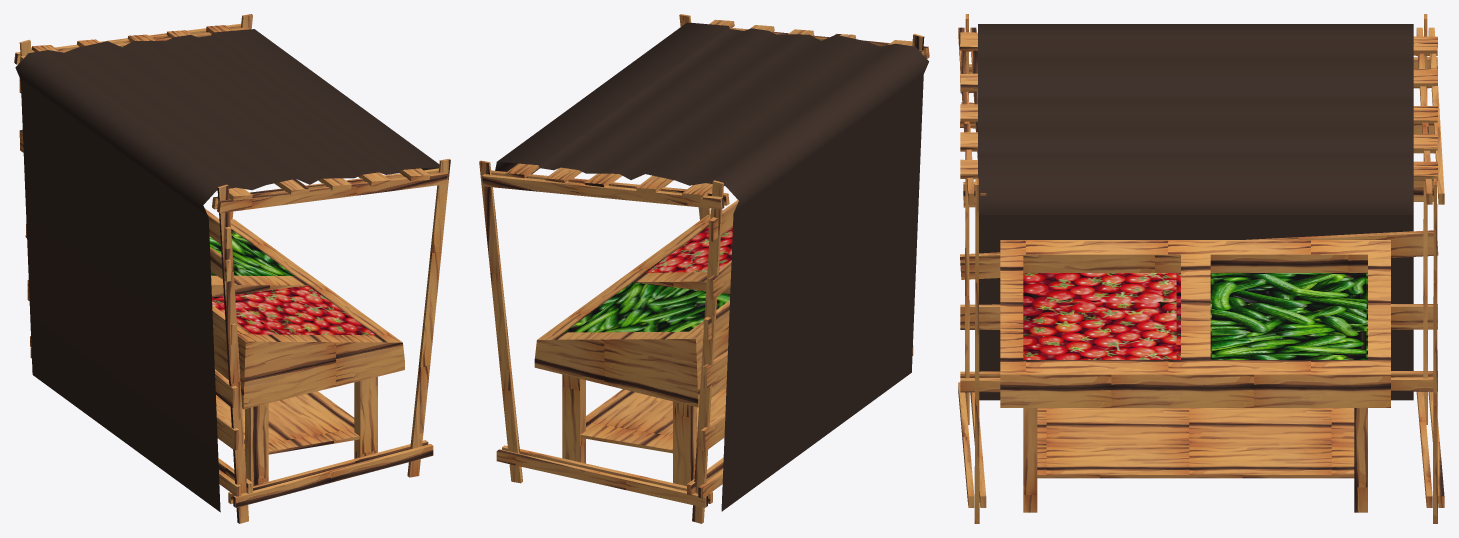
Rendered from Stall.fbx.
The picture shows the model from 3 angles, left to right: view 1: azimuth 30°, elevation 25°; view 2: azimuth 150°, elevation 25°; view 3: azimuth 270°, elevation 25°; orthographic projection. The views are drawn at different scales.
Visible parts, largest first — view 1: pCube28; view 2: pCube28; view 3: pCube28.
Part boxes in pixels (left/top/right/bottom): pCube28: left=14, top=14, right=450, bottom=523; pCube28: left=479, top=14, right=929, bottom=523; pCube28: left=958, top=14, right=1444, bottom=523.
Size of the model in its own units: 10.47 by 13.84 by 15.43.
5 materials, 3 textured.
